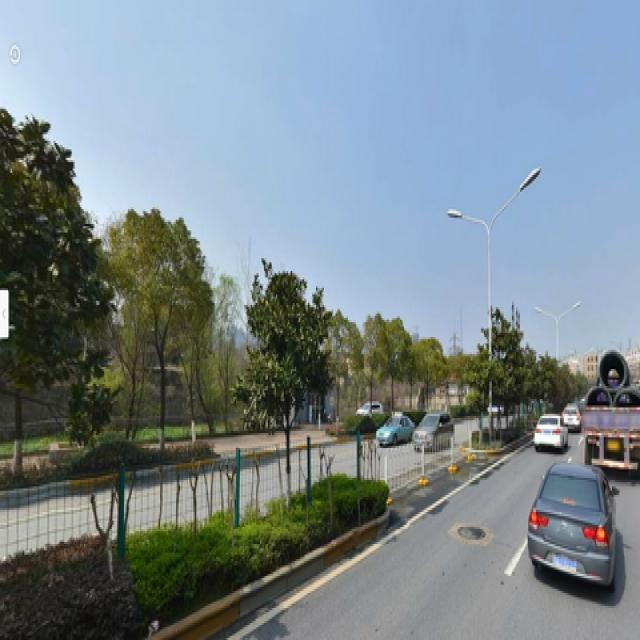magn: (258, 273, 318, 486)
